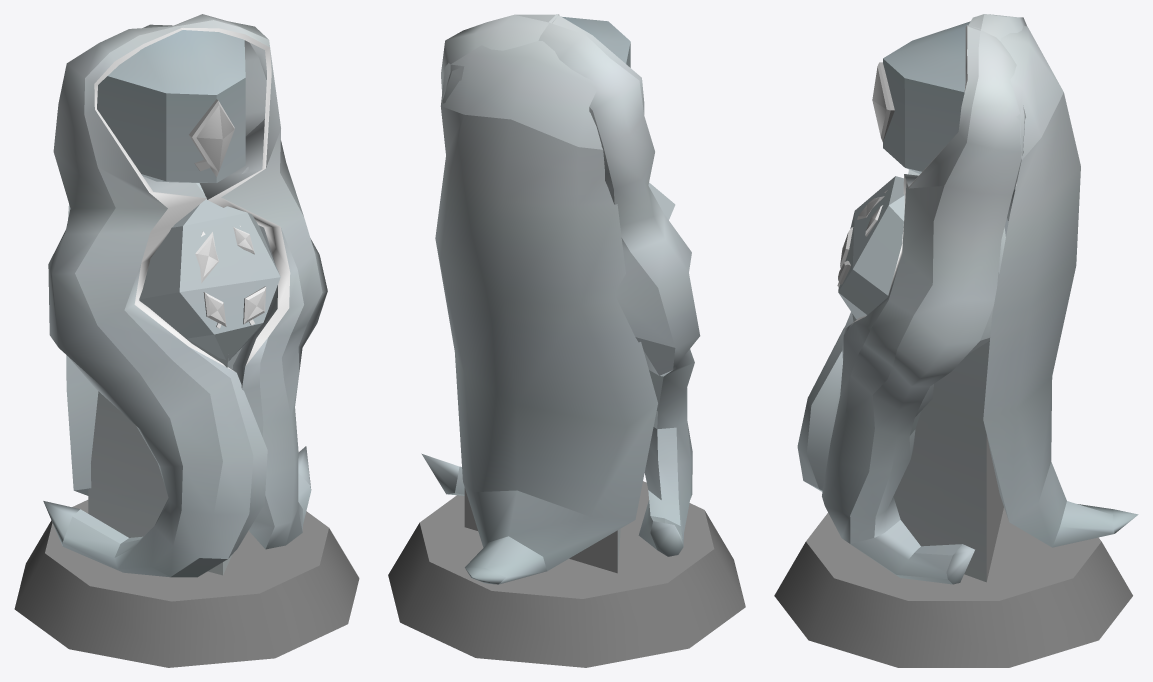
Rendered from Idele_Wind.fbx.
The picture shows the model from 3 angles, left to right: view 1: azimuth 30°, elevation 25°; view 2: azimuth 150°, elevation 25°; view 3: azimuth 270°, elevation 25°; orthographic projection. The views are drawn at different scales.
Visible parts, largest first — view 1: Idele_Wind; view 2: Idele_Wind; view 3: Idele_Wind.
Boxes of the visible parts, x1,y1,x2,y2 form: Idele_Wind: [14, 14, 359, 667]; Idele_Wind: [388, 14, 745, 667]; Idele_Wind: [774, 14, 1138, 667].
Bounding box in the file's own units: 0.1772 × 0.3269 × 0.1891.
1 material, 1 textured.
